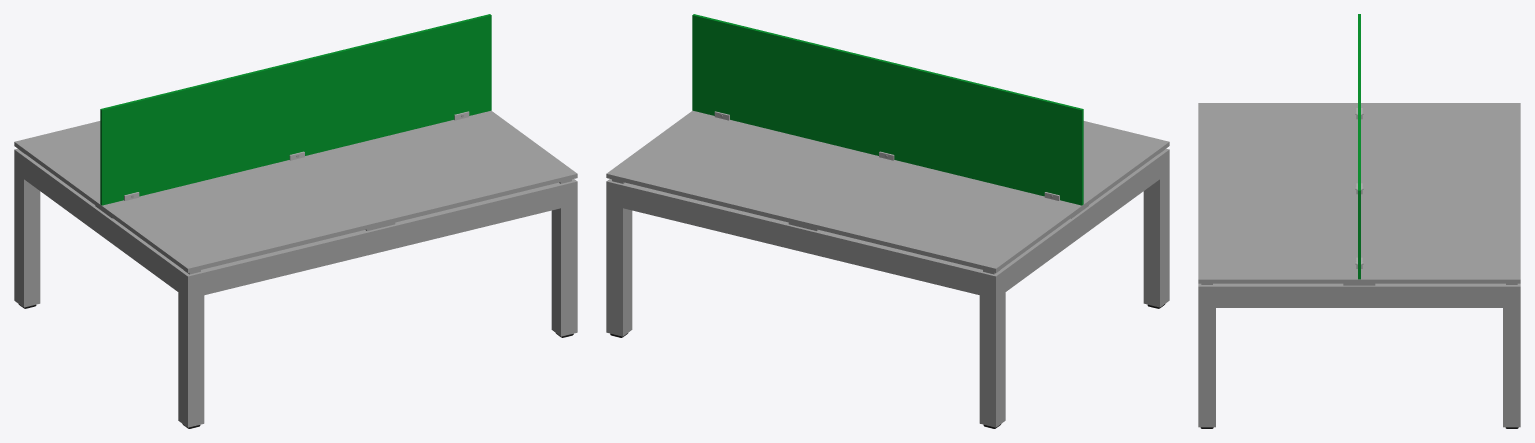
The model's file is Mesavid.fbx.
3 renders of one model, left to right at view 1: azimuth 30°, elevation 25°; view 2: azimuth 150°, elevation 25°; view 3: azimuth 270°, elevation 25°, orthographic. The views are drawn at different scales.
Parts seen in each view (by area): view 1: pCube1, pCube13, pCube4, pasted__pasted__pasted__pasted__pCube6 (×2), pasted__pasted__pasted__pCube6; view 2: pCube1, pCube13, pCube4, pasted__pasted__pasted__pasted__pCube6 (×2), pasted__pasted__pasted__pCube6; view 3: pCube1, pCube4, pasted__pasted__pasted__pCube6 (×2), pCube13.
Boxes of the visible parts, x1=… form: pCube1: x1=14, y1=110, x2=577, y2=272; pCube13: x1=100, y1=14, x2=491, y2=205; pCube4: x1=14, y1=148, x2=577, y2=299; pasted__pasted__pasted__pasted__pCube6 (×2): x1=14, y1=172, x2=204, y2=427; pasted__pasted__pasted__pCube6: x1=551, y1=204, x2=577, y2=336; pCube1: x1=606, y1=110, x2=1169, y2=272; pCube13: x1=692, y1=14, x2=1083, y2=205; pCube4: x1=606, y1=148, x2=1169, y2=298; pasted__pasted__pasted__pasted__pCube6 (×2): x1=979, y1=172, x2=1169, y2=427; pasted__pasted__pasted__pCube6: x1=606, y1=204, x2=632, y2=336; pCube1: x1=1198, y1=103, x2=1520, y2=283; pCube4: x1=1198, y1=283, x2=1520, y2=307; pasted__pasted__pasted__pCube6 (×2): x1=1198, y1=293, x2=1520, y2=427; pCube13: x1=1358, y1=14, x2=1360, y2=279.
Size of the model in its own units: 13.82 by 8.74 by 10.66.
